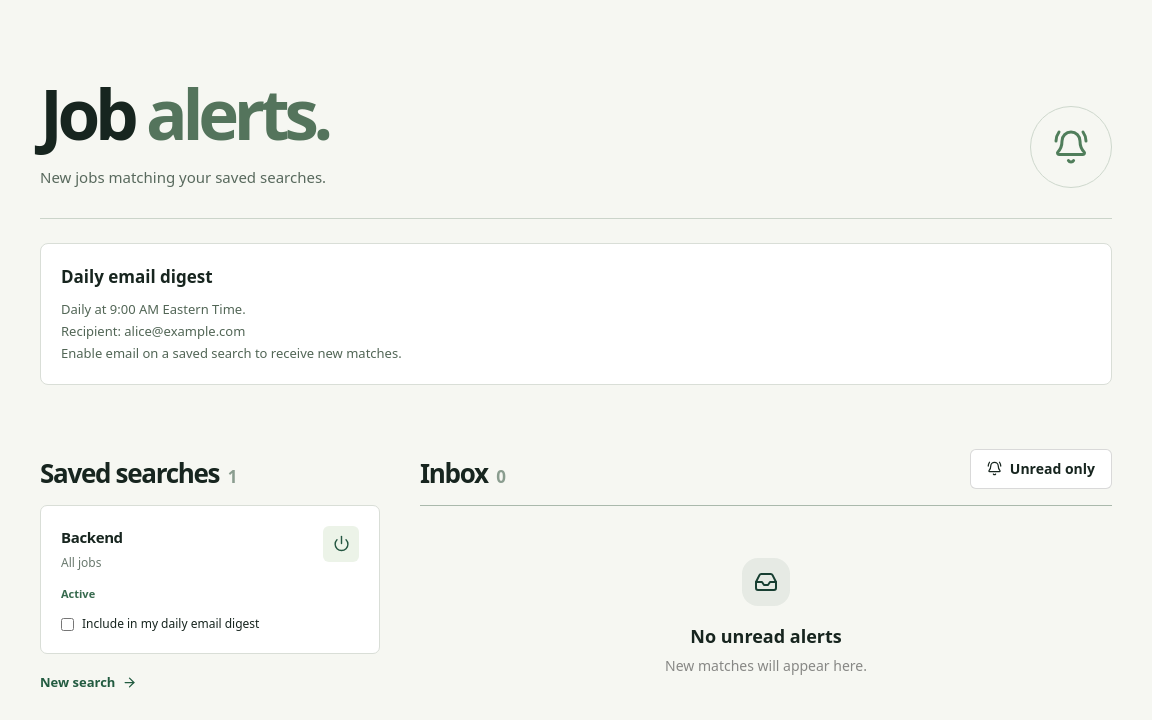
Test: daily email digest preferences › keeps the setting off when a save fails
The image size is (1152, 720).
Click the checkbox labelled "Include in my daily email digest". click: (68, 624)
box: left=61, top=618, right=74, bottom=631
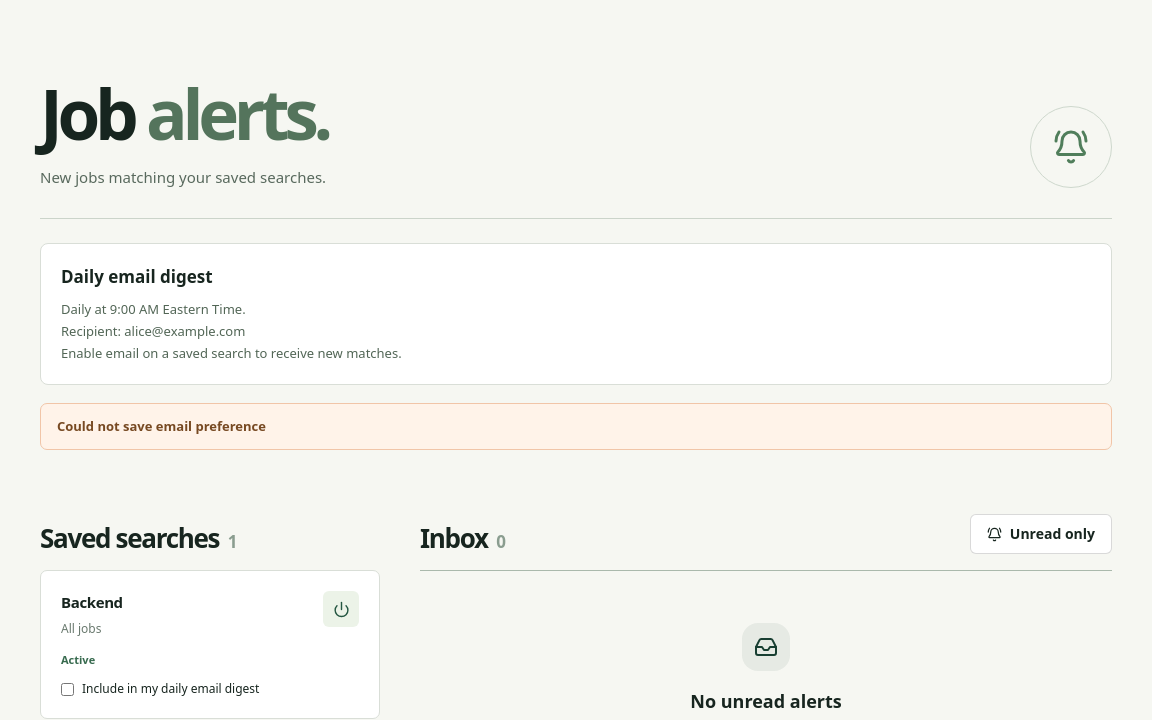
expect the checkbox labelled "Include in my daily email digest" is not checked: met, box left=61, top=683, right=74, bottom=696
expect the message reads "Could not save email preference": met, box left=57, top=417, right=266, bottom=435
